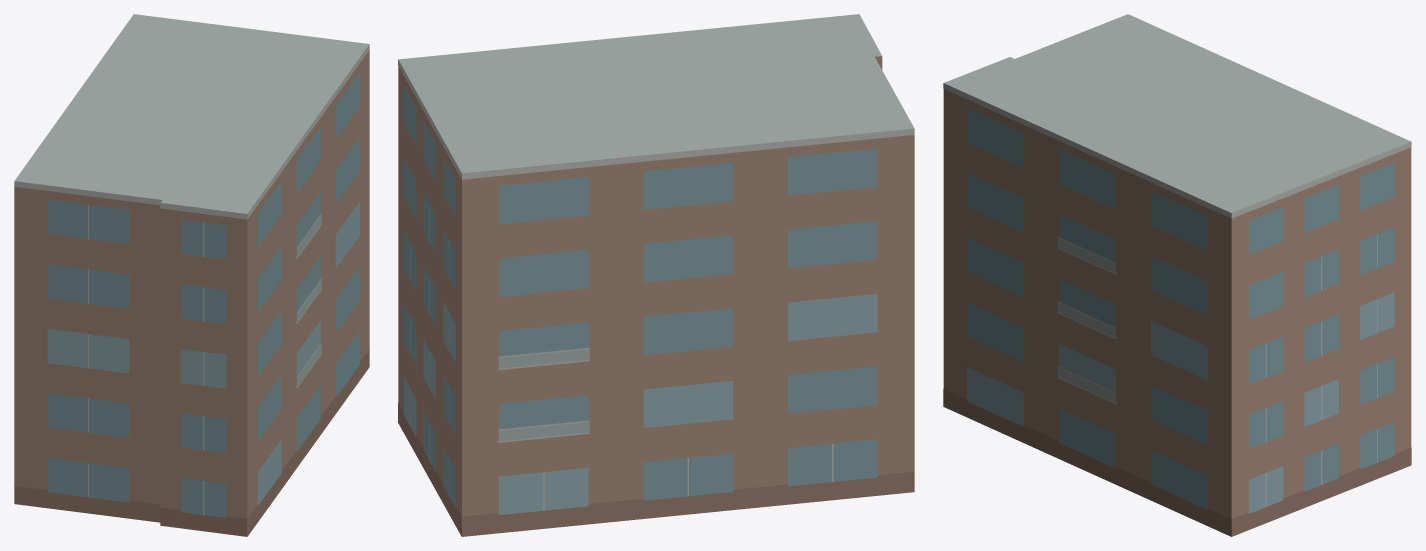
The model's file is survey-upis-32957968.glb.
3 renders of one model, left to right at view 1: azimuth 30°, elevation 25°; view 2: azimuth 150°, elevation 25°; view 3: azimuth 270°, elevation 25°, orthographic. The views are drawn at different scales.
Visible parts, largest first — view 1: survey-upis-32957968.tmp; view 2: survey-upis-32957968.tmp; view 3: survey-upis-32957968.tmp.
Part boxes in pixels (x1=…): survey-upis-32957968.tmp: x1=14, y1=14, x2=369, y2=536; survey-upis-32957968.tmp: x1=398, y1=14, x2=914, y2=536; survey-upis-32957968.tmp: x1=943, y1=14, x2=1411, y2=536.
Bounding box in the file's own units: 18.61 × 14.1 × 18.48.
